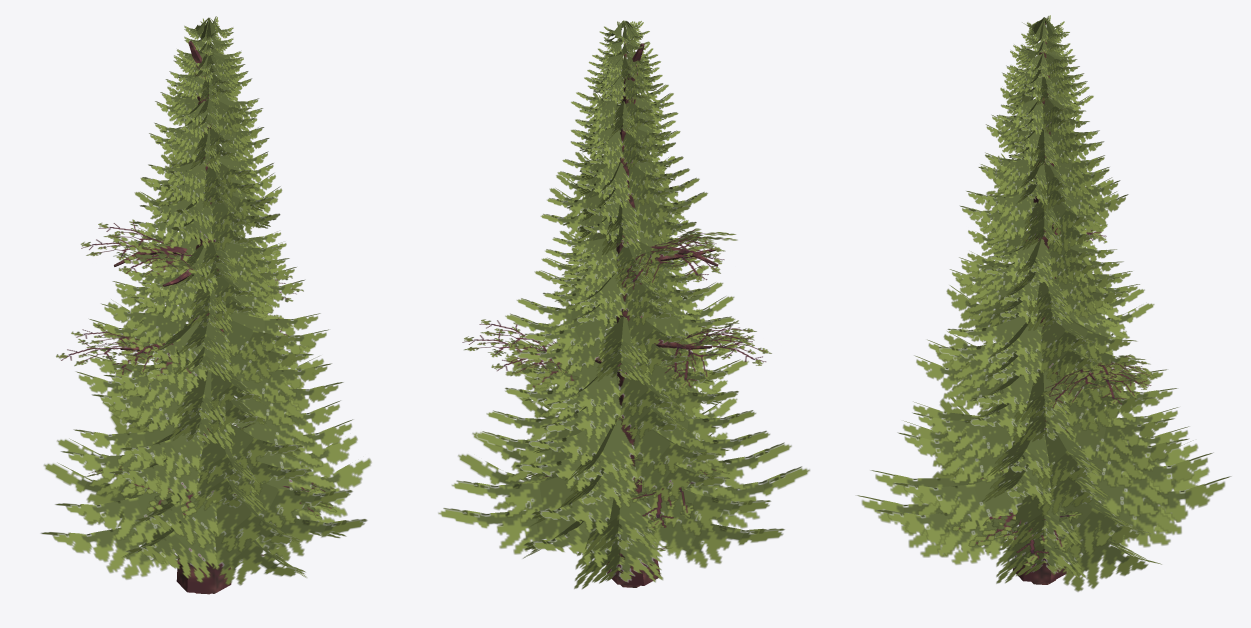
Rendered from small_tree_01.glb.
3 views of the same model, side by side, from view 1: azimuth 30°, elevation 25°; view 2: azimuth 150°, elevation 25°; view 3: azimuth 270°, elevation 25° (orthographic).
Visible parts, largest first — view 1: spiky_tree, tree_01, trunk_04; view 2: spiky_tree, tree_01, trunk_04; view 3: spiky_tree, tree_01, trunk_04, trunk_01.
Boxes of the visible parts, bbox=[...] form: spiky_tree: bbox=[40, 16, 371, 585]; tree_01: bbox=[56, 41, 336, 519]; trunk_04: bbox=[176, 548, 231, 593]; spiky_tree: bbox=[438, 20, 809, 589]; tree_01: bbox=[462, 43, 771, 530]; trunk_04: bbox=[606, 554, 660, 585]; spiky_tree: bbox=[856, 15, 1231, 591]; tree_01: bbox=[952, 41, 1157, 566]; trunk_04: bbox=[1012, 522, 1066, 582]; trunk_01: bbox=[952, 511, 1081, 565].
Size of the model in its own units: 26.38 by 43.36 by 26.91.
8 materials, 8 textured.
